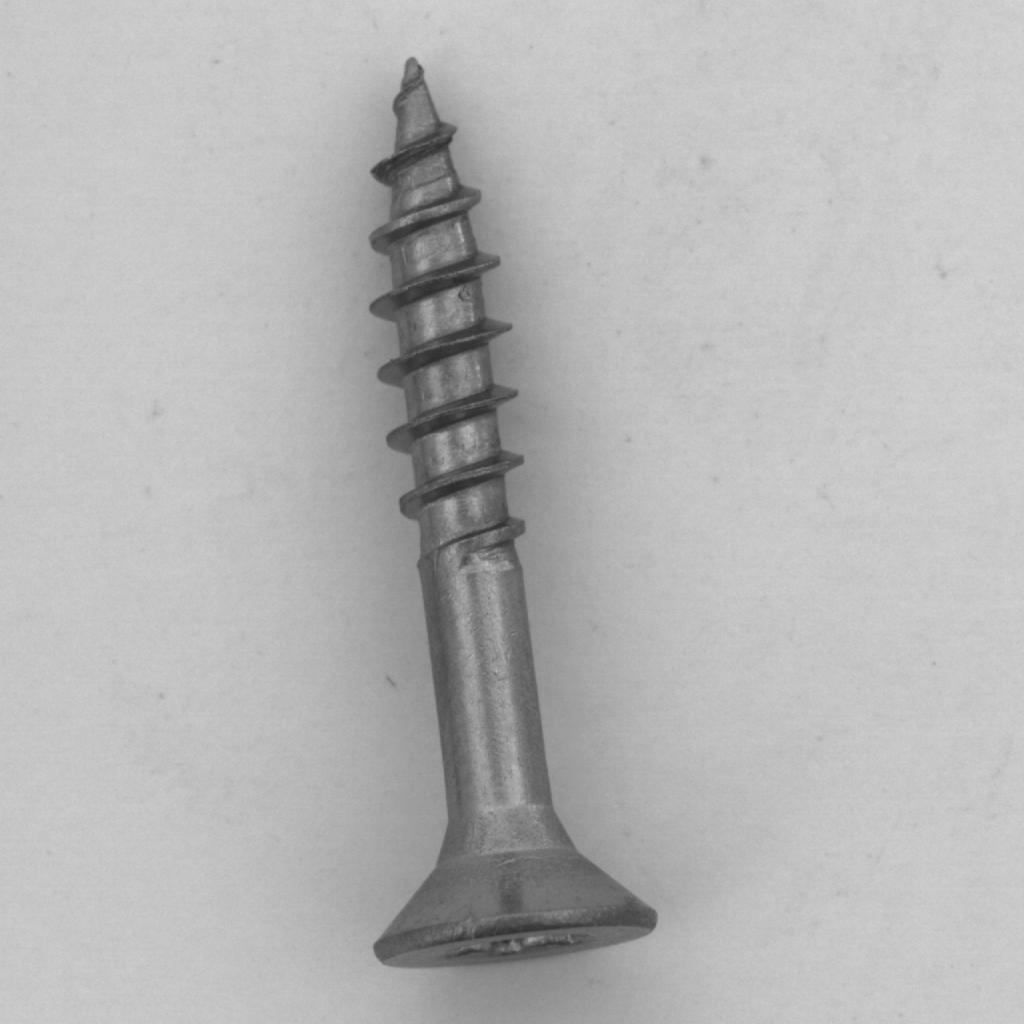good: (345, 39, 675, 988)
